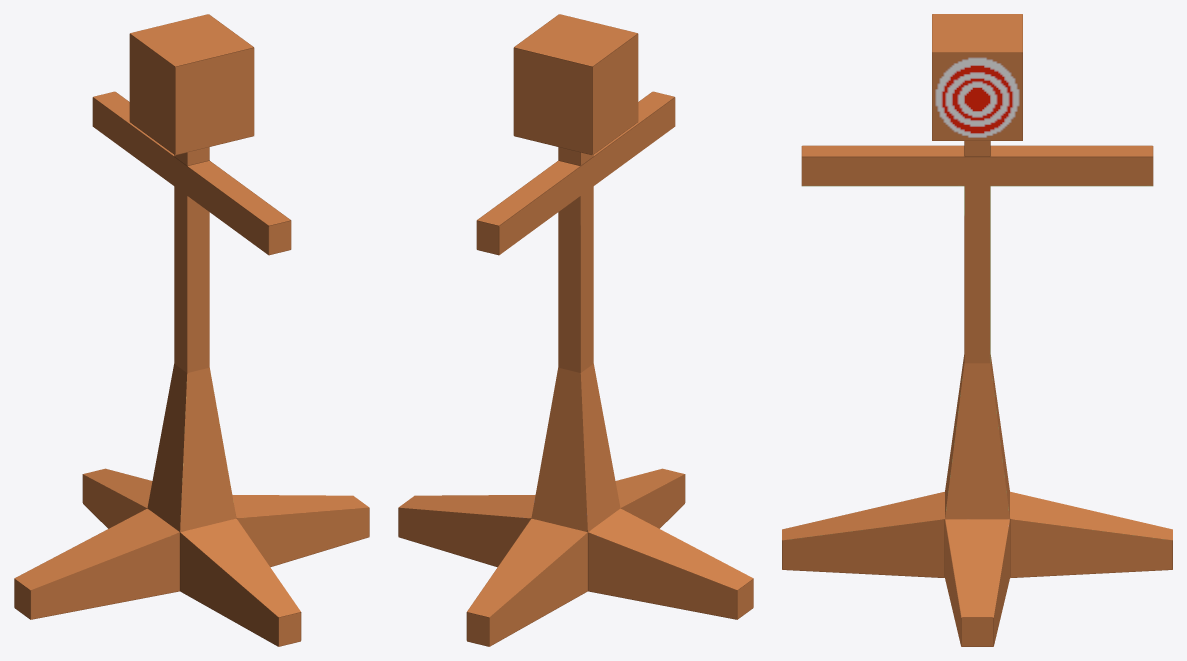
File: Dummy.fbx
3 renders of one model, left to right at view 1: azimuth 30°, elevation 25°; view 2: azimuth 150°, elevation 25°; view 3: azimuth 270°, elevation 25°, orthographic.
Visible parts, largest first — view 1: Dummy; view 2: Dummy; view 3: Dummy.
Boxes of the visible parts, x1,y1,x2,y2 form: Dummy: (14,14,369,646); Dummy: (398,14,753,646); Dummy: (782,14,1172,646).
Bounding box in the file's own units: 75 × 112 × 75.
Materials: 1 (1 with a texture image).
